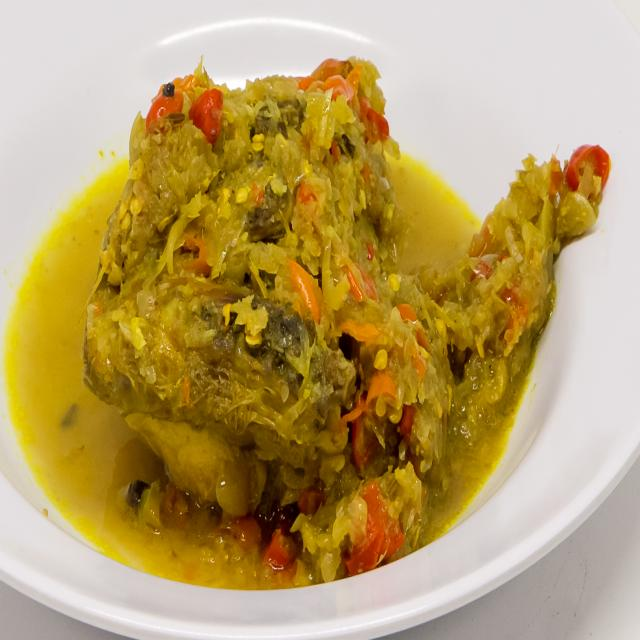Ayam-Betutu: (82, 22, 610, 590)
